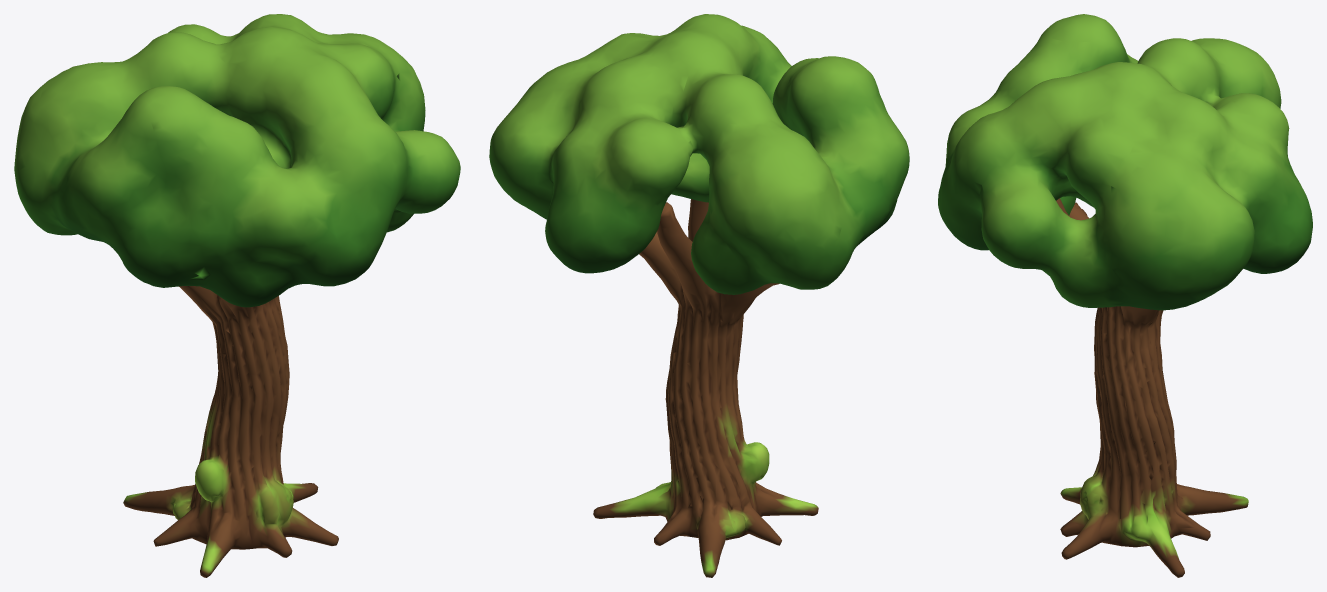
File: arbol_roble_abuelo_v05_lod0.glb
The picture shows the model from 3 angles, left to right: view 1: azimuth 30°, elevation 25°; view 2: azimuth 150°, elevation 25°; view 3: azimuth 270°, elevation 25°; orthographic projection. The views are drawn at different scales.
Parts seen in each view (by area): view 1: RobleAbuelo_Copa_LOD0, RobleAbuelo_Tronco_LOD0; view 2: RobleAbuelo_Copa_LOD0, RobleAbuelo_Tronco_LOD0; view 3: RobleAbuelo_Copa_LOD0, RobleAbuelo_Tronco_LOD0.
Boxes of the visible parts, x1,y1,x2,y2 form: RobleAbuelo_Copa_LOD0: (14,14,460,307); RobleAbuelo_Tronco_LOD0: (123,286,338,577); RobleAbuelo_Copa_LOD0: (489,14,909,294); RobleAbuelo_Tronco_LOD0: (593,199,818,577); RobleAbuelo_Copa_LOD0: (938,14,1312,310); RobleAbuelo_Tronco_LOD0: (1056,198,1248,577).
Size of the model in its own units: 42.27 by 54.22 by 38.47.
